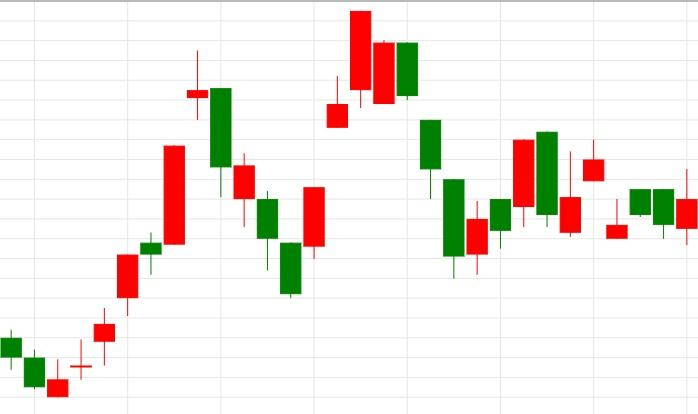bearish_engulfing_fall: (443, 131, 559, 278)
three_black_crows_fall: (279, 10, 465, 298)
